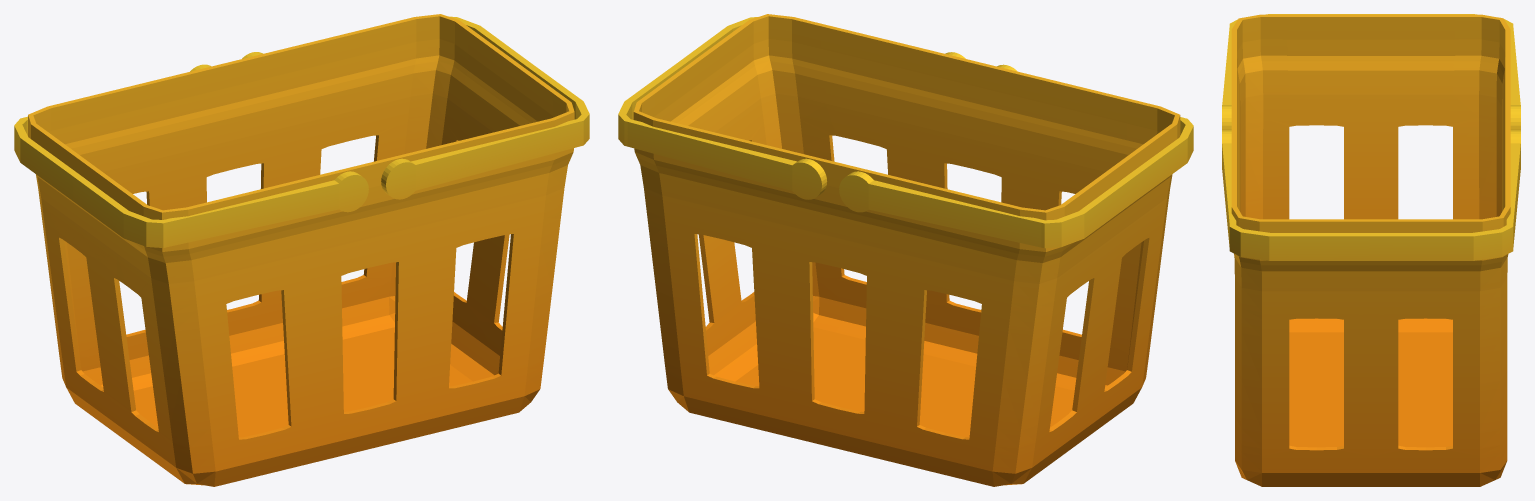
The model's file is basket_orange.fbx.
The picture shows the model from 3 angles, left to right: view 1: azimuth 30°, elevation 25°; view 2: azimuth 150°, elevation 25°; view 3: azimuth 270°, elevation 25°; orthographic projection.
Visible parts, largest first — view 1: basket_orange, handle2_orange, handle1_orange; view 2: basket_orange, handle2_orange, handle1_orange; view 3: basket_orange, handle1_orange, handle2_orange.
Part boxes in pixels (<box>): basket_orange: <box>28,14,574,486</box>; handle2_orange: <box>14,64,368,247</box>; handle1_orange: <box>242,16,589,199</box>; basket_orange: <box>633,14,1180,486</box>; handle2_orange: <box>839,64,1193,248</box>; handle1_orange: <box>618,17,965,199</box>; basket_orange: <box>1231,14,1510,486</box>; handle1_orange: <box>1222,130,1520,260</box>; handle2_orange: <box>1222,14,1520,129</box>.
Bounding box in the file's own units: 344 × 211 × 195.
